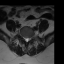CCS_normal: (26, 35, 27, 43)
LFS_normal: (29, 34, 31, 41)
LLS_normal: (27, 35, 29, 42)
RFS_normal: (21, 33, 24, 40)
RLS_normal: (24, 35, 26, 42)
